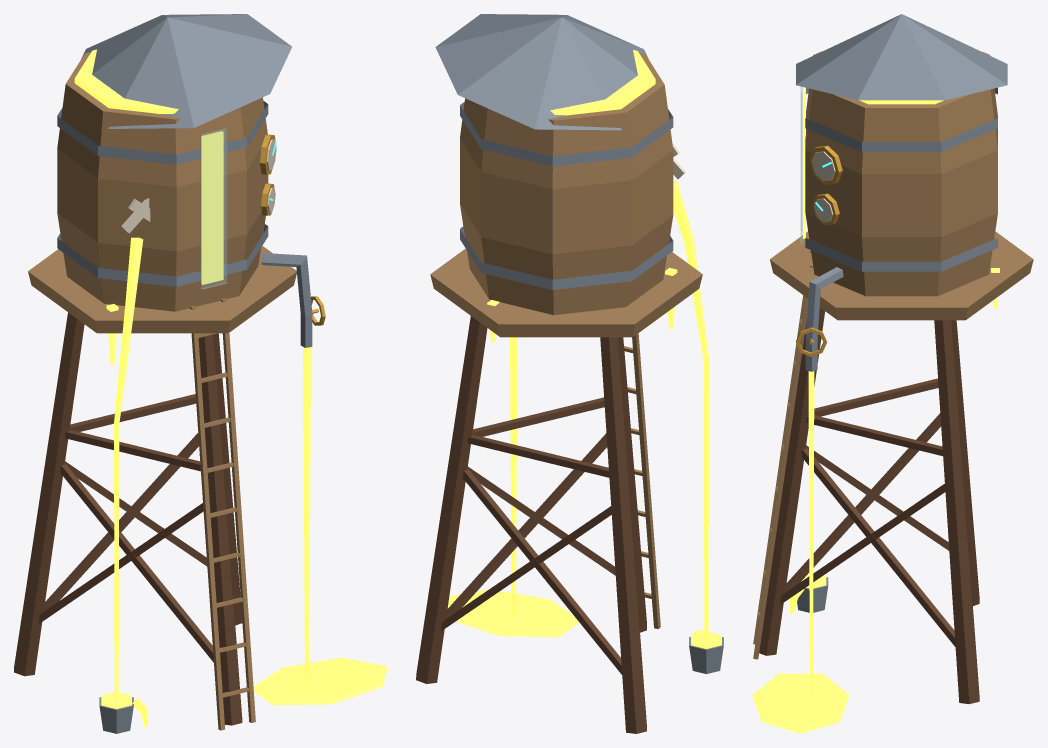
Rendered from Bldg_SlimeTower.fbx.
The picture shows the model from 3 angles, left to right: view 1: azimuth 30°, elevation 25°; view 2: azimuth 150°, elevation 25°; view 3: azimuth 270°, elevation 25°; orthographic projection. The views are drawn at different scales.
Visible parts, largest first — view 1: Bldg_SlimeTower_Body, Bldg_SlimeTower_Drips, Bldg_SlimeTower_Puddle, Bldg_SlimeTower_Gauges; view 2: Bldg_SlimeTower_Body, Bldg_SlimeTower_Drips, Bldg_SlimeTower_Puddle; view 3: Bldg_SlimeTower_Body, Bldg_SlimeTower_Puddle, Bldg_SlimeTower_Drips, Bldg_SlimeTower_Gauges.
Part boxes in pixels (<box>): Bldg_SlimeTower_Body: <box>14,14,312,733</box>; Bldg_SlimeTower_Drips: <box>106,237,311,699</box>; Bldg_SlimeTower_Puddle: <box>253,658,387,705</box>; Bldg_SlimeTower_Gauges: <box>260,134,276,215</box>; Bldg_SlimeTower_Body: <box>416,14,723,733</box>; Bldg_SlimeTower_Drips: <box>487,181,709,638</box>; Bldg_SlimeTower_Puddle: <box>447,589,579,637</box>; Bldg_SlimeTower_Body: <box>753,14,1033,704</box>; Bldg_SlimeTower_Puddle: <box>752,673,849,733</box>; Bldg_SlimeTower_Drips: <box>808,268,999,695</box>; Bldg_SlimeTower_Gauges: <box>809,145,842,225</box>.
Size of the model in its own units: 4.69 by 10.17 by 4.05.
